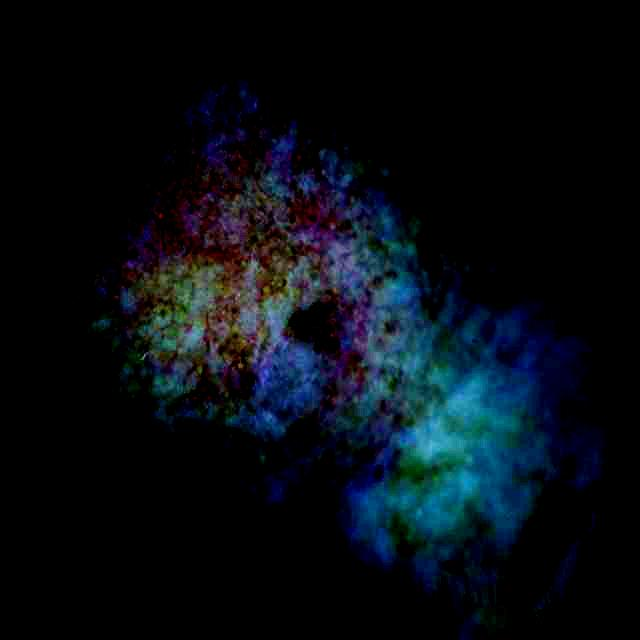BCC: (265, 292, 371, 398)
